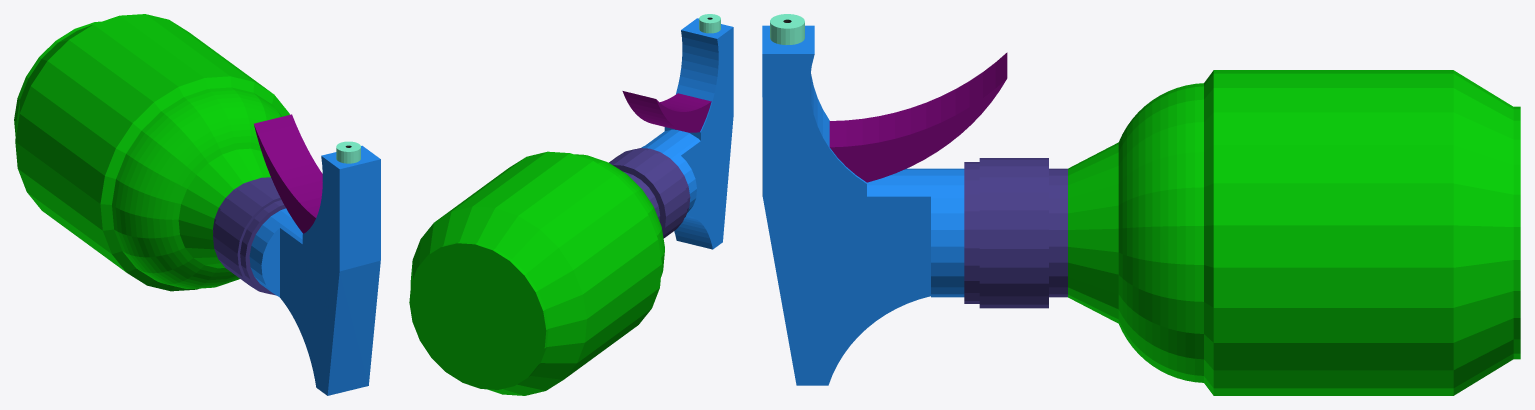
3 renders of one model, left to right at view 1: azimuth 30°, elevation 25°; view 2: azimuth 150°, elevation 25°; view 3: azimuth 270°, elevation 25°, orthographic. The views are drawn at different scales.
Visible parts, largest first — view 1: spray bottle; view 2: spray bottle; view 3: spray bottle.
Part boxes in pixels (bbox=[...]): spray bottle: bbox=[14, 14, 380, 395]; spray bottle: bbox=[409, 14, 733, 395]; spray bottle: bbox=[762, 14, 1520, 395].
Bounding box in the file's own units: 925 × 1118 × 2150.
